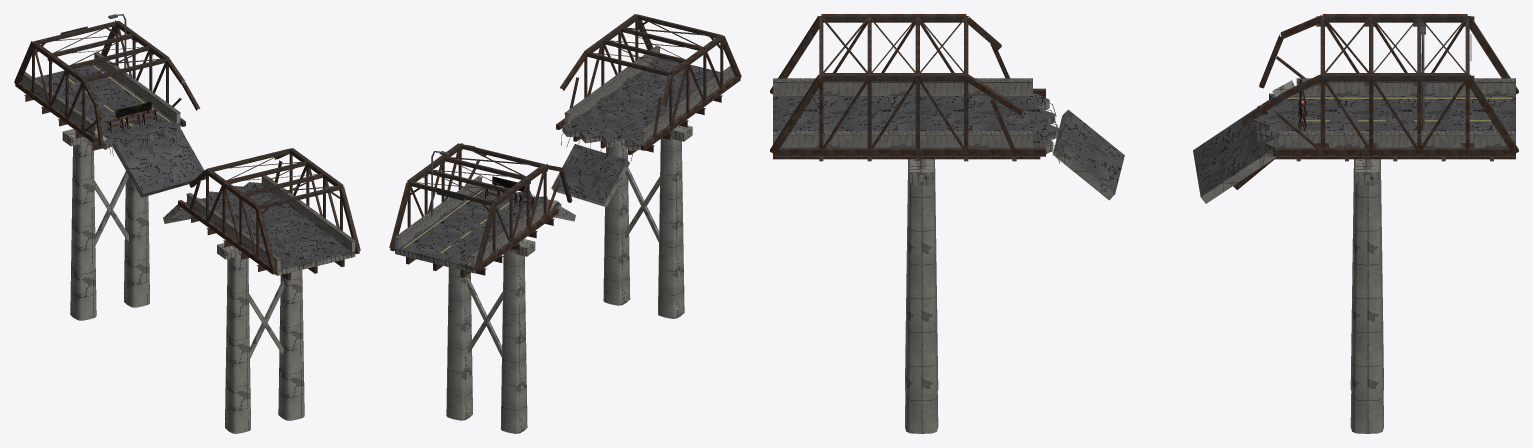
File: bridge.glb
The picture shows the model from 3 angles, left to right: view 1: azimuth 30°, elevation 25°; view 2: azimuth 150°, elevation 25°; view 3: azimuth 270°, elevation 25°; orthographic projection. The views are drawn at different scales.
Visible parts, largest first — view 1: detail, deck-col; view 2: detail, deck-col; view 3: detail, deck-col.
Part boxes in pixels (left/top/right/bottom): detail: left=14, top=14, right=360, bottom=433; deck-col: left=21, top=55, right=355, bottom=275; detail: left=389, top=14, right=741, bottom=433; deck-col: left=395, top=49, right=734, bottom=273; detail: left=770, top=14, right=1518, bottom=433; deck-col: left=773, top=83, right=1515, bottom=156.
Size of what is drawn, in the model's own units: 8.63 by 23.44 by 40.31.
13 materials, 13 textured.
